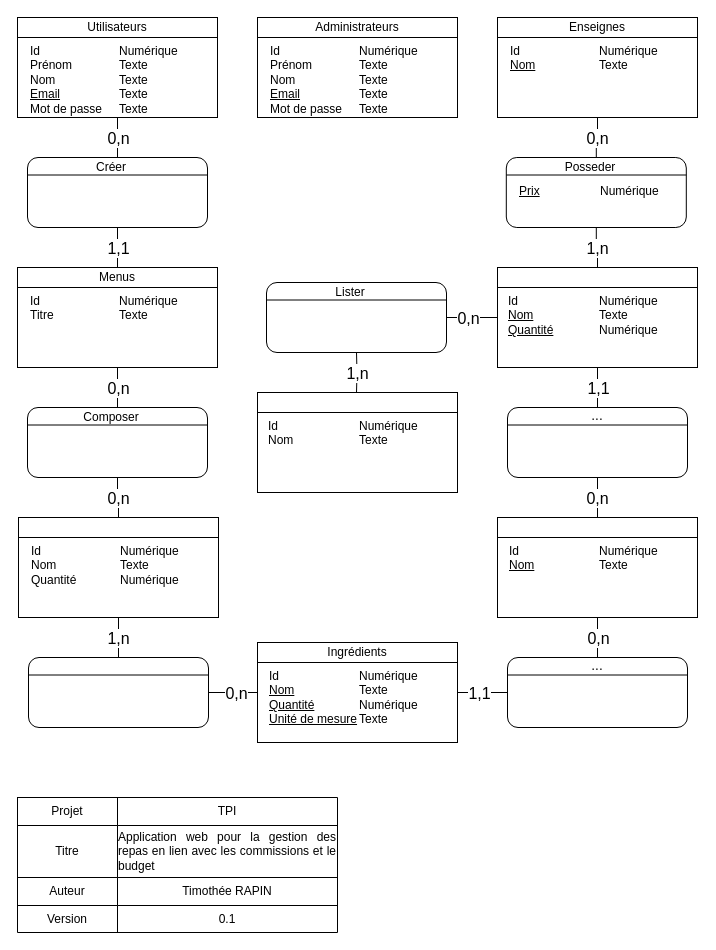
Image size: 716x950. Some labels were removed from this diagram. The shapes that lost their labels are listed below. From the top down, each one's box as (x1, y1, x2, y2) in pixels, then its label:
(496, 266, 698, 288): Articles
(256, 392, 458, 412): Listes de commissions
(18, 516, 218, 538): Repas
(496, 516, 698, 538): Unités de mesure
(28, 656, 208, 728): Contenir
